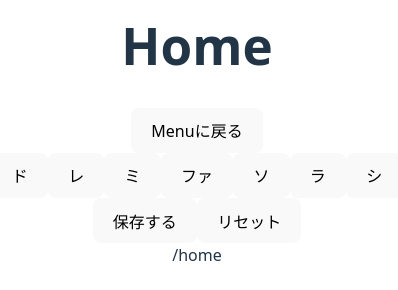
ミのボタンを押すと、楽譜にミが表示される
Click the button "ミ" at (133, 176), box [104,153,161,198]
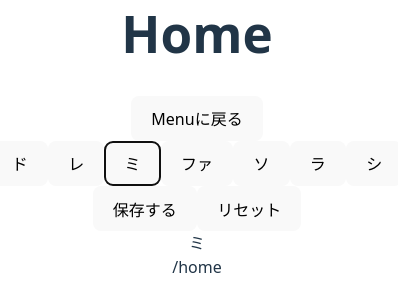
Expected: the element named "gakufu-board" reads "ミ", [189,232,205,254]
